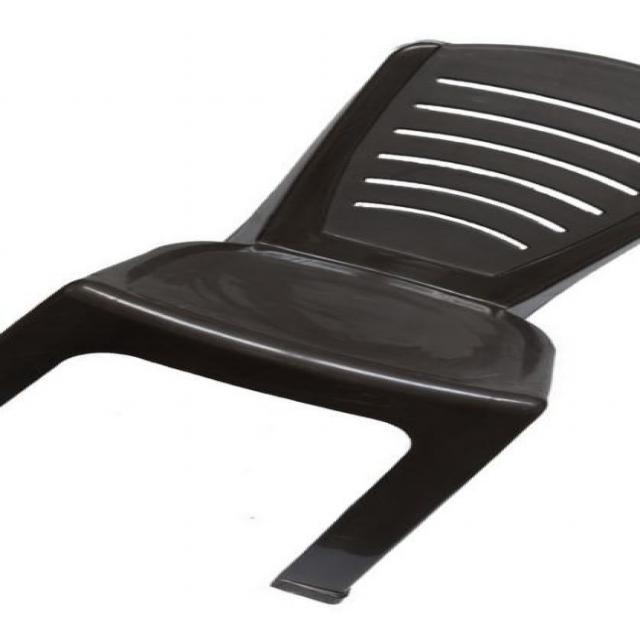Chair: (3, 38, 640, 610)
